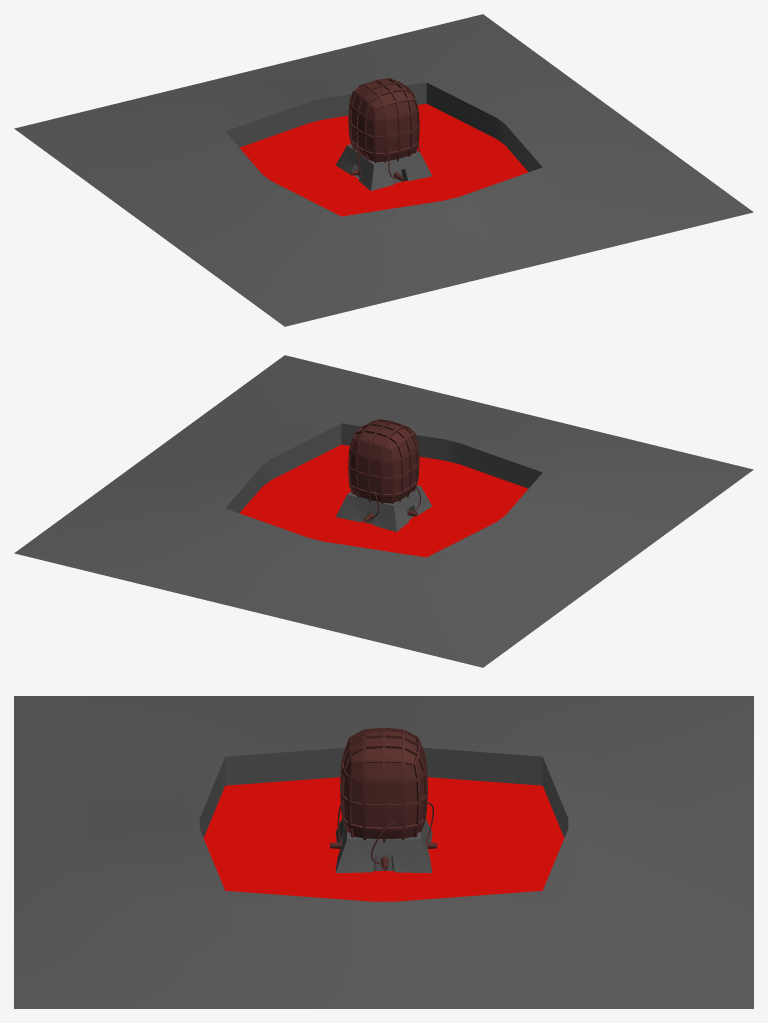
The model's file is Incinerador.fbx.
3 views of the same model, one above another, from view 1: azimuth 30°, elevation 25°; view 2: azimuth 150°, elevation 25°; view 3: azimuth 270°, elevation 25° (orthographic). The views are drawn at different scales.
Visible parts, largest first — view 1: Incinerador.001, Incinerador.002, Incinerador; view 2: Incinerador.001, Incinerador.002, Incinerador; view 3: Incinerador.001, Incinerador.002, Incinerador.
Boxes of the visible parts, x1,y1,x2,y2 form: Incinerador.001: [14, 14, 753, 326]; Incinerador.002: [239, 103, 528, 216]; Incinerador: [348, 78, 419, 181]; Incinerador.001: [14, 355, 753, 667]; Incinerador.002: [239, 444, 528, 557]; Incinerador: [348, 419, 420, 522]; Incinerador.001: [14, 696, 753, 1008]; Incinerador.002: [203, 777, 564, 901]; Incinerador: [330, 727, 436, 870].
Size of the model in its own units: 998 by 188 by 998.
